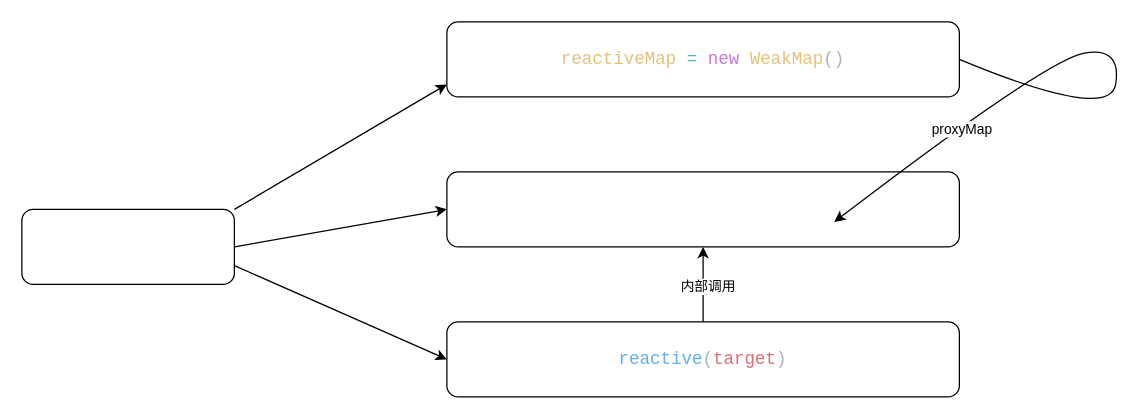
Image size: 1139x419. Some labels were removed from this diagram. Each missing label, with the centre of its shape:
createReactiveObject ( target , baseHandlers , proxyMap ): point (702, 209)
reactive.ts: point (127, 246)
